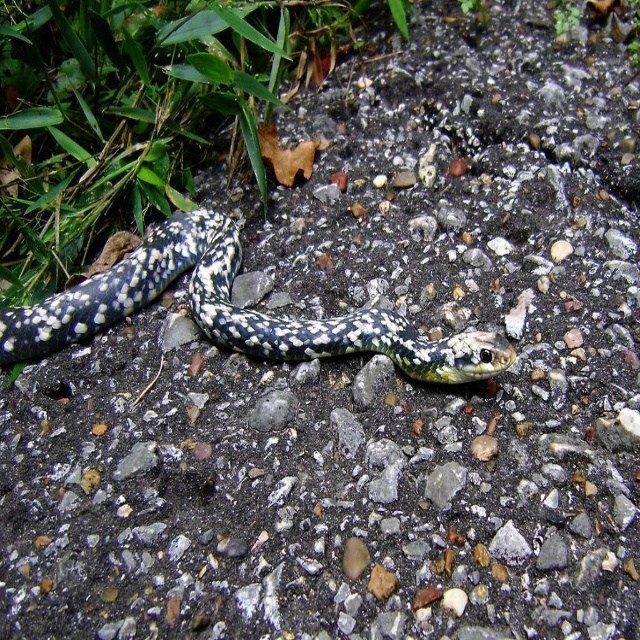Snake: (0, 207, 516, 384)
